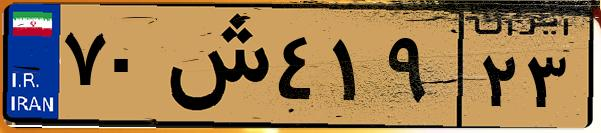0: (110, 28, 158, 98)
1: (330, 28, 385, 110)
2: (475, 38, 525, 113)
3: (525, 38, 570, 115)
4: (270, 28, 330, 110)
7: (57, 26, 110, 100)
9: (385, 28, 445, 110)
ش: (158, 12, 270, 120)
